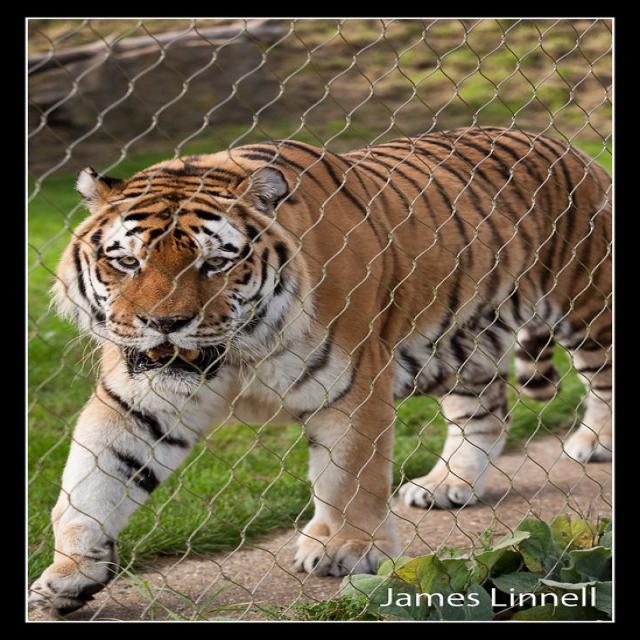Tiger: (29, 125, 609, 618)
